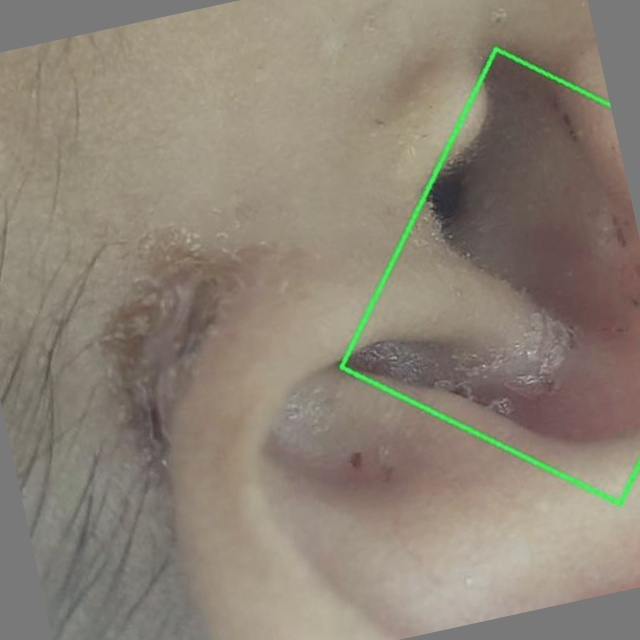Eczema: (334, 41, 633, 503)
